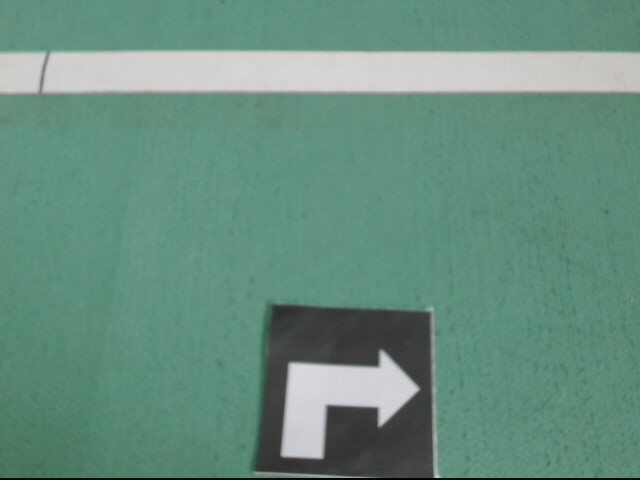right: (253, 307, 435, 473)
